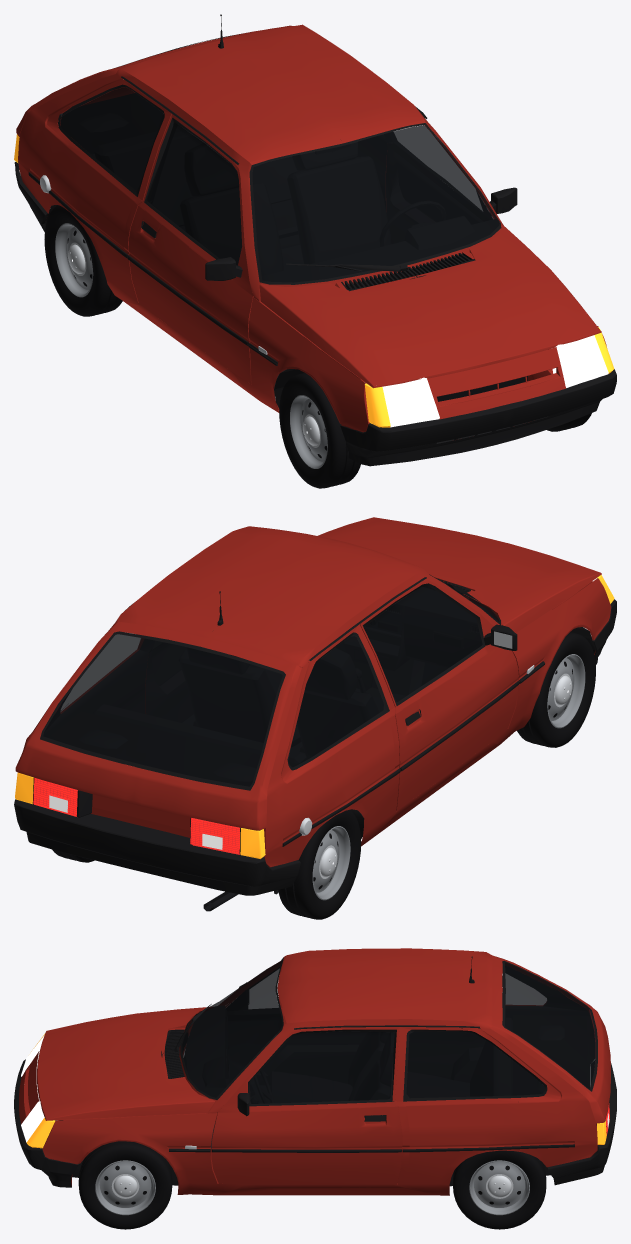
File: car_tavria.glb
3 renders of one model, top to bottom at view 1: azimuth 30°, elevation 25°; view 2: azimuth 150°, elevation 25°; view 3: azimuth 270°, elevation 25°, orthographic. The views are drawn at different scales.
Parts seen in each view (by area): view 1: body, wheel_FR, wheel_RR; view 2: body, wheel_RR, wheel_FR, tail_lamps; view 3: body, wheel_FL, wheel_RL.
Part boxes in pixels (box(x1,y1,x2,y2)): body: box(14, 14, 616, 466); wheel_FR: box(279, 372, 360, 488); wheel_RR: box(44, 205, 122, 316); body: box(14, 517, 616, 911); wheel_RR: box(278, 809, 361, 919); wheel_FR: box(517, 632, 595, 747); tail_lamps: box(33, 779, 239, 854); body: box(14, 948, 616, 1195); wheel_FL: box(78, 1141, 172, 1229); wheel_RL: box(453, 1150, 546, 1229).
Size of what is drawn, in the model's own units: 1.78 by 1.53 by 3.74.
